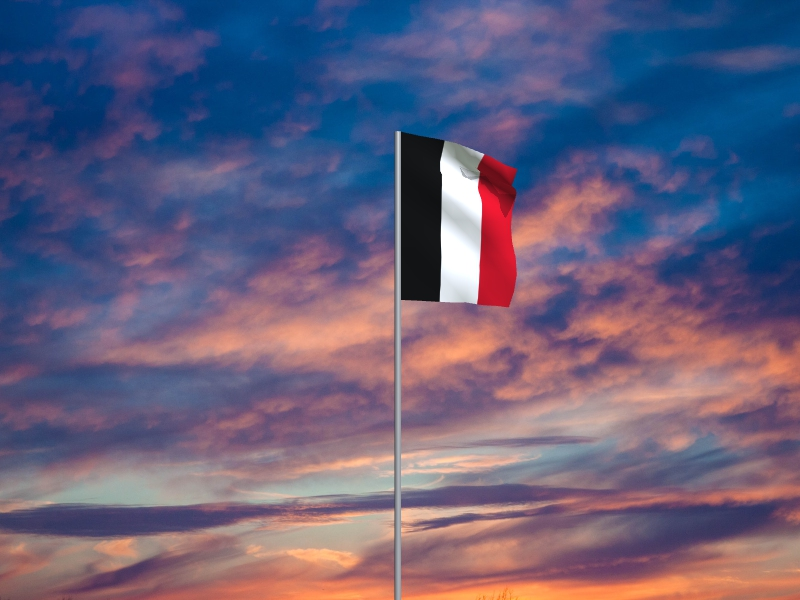ye: (401, 132, 518, 309)
